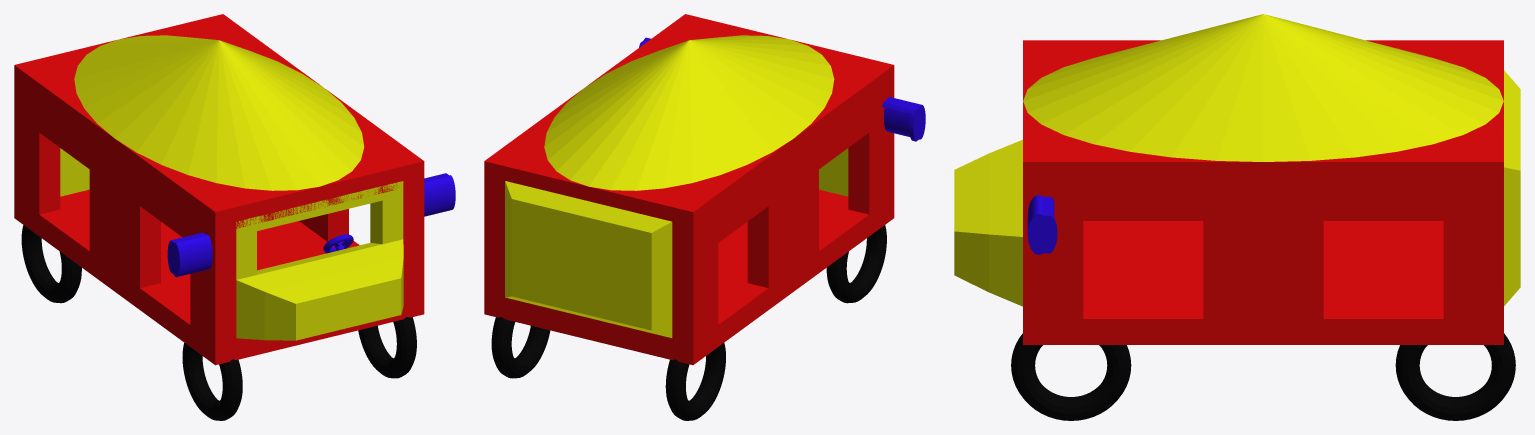
Rendered from C2EDE6FD-53C6-489B-9A7D-2CF6DF871E2E.fbx.
3 views of the same model, side by side, from view 1: azimuth 30°, elevation 25°; view 2: azimuth 150°, elevation 25°; view 3: azimuth 270°, elevation 25° (orthographic). The views are drawn at different scales.
Parts seen in each view (by area): view 1: Cone, Base, Side, Front, Wheel, Car mirror, Back; view 2: Cone, Base, Side, Back, Wheel, Car mirror, Front; view 3: Base, Cone, Side, Front, Wheel, Back, Car mirror.
Boxes of the visible parts, x1=… form: Cone: x1=74, y1=35, x2=364, y2=190; Base: x1=14, y1=14, x2=424, y2=365; Side: x1=14, y1=87, x2=424, y2=343; Front: x1=236, y1=181, x2=403, y2=340; Wheel: x1=21, y1=225, x2=416, y2=420; Car mirror: x1=167, y1=173, x2=455, y2=277; Back: x1=60, y1=148, x2=89, y2=196; Cone: x1=544, y1=35, x2=834, y2=190; Base: x1=484, y1=14, x2=894, y2=364; Side: x1=484, y1=87, x2=894, y2=343; Back: x1=505, y1=181, x2=672, y2=337; Wheel: x1=491, y1=225, x2=886, y2=420; Car mirror: x1=639, y1=37, x2=925, y2=141; Front: x1=819, y1=148, x2=848, y2=196; Base: x1=1023, y1=40, x2=1503, y2=344; Cone: x1=1023, y1=14, x2=1503, y2=161; Side: x1=1023, y1=188, x2=1503, y2=318; Front: x1=954, y1=139, x2=1022, y2=306; Wheel: x1=1011, y1=333, x2=1515, y2=420; Back: x1=1504, y1=70, x2=1520, y2=305; Car mirror: x1=1027, y1=195, x2=1057, y2=254.
Size of the model in its own units: 792 by 815 by 1178.
